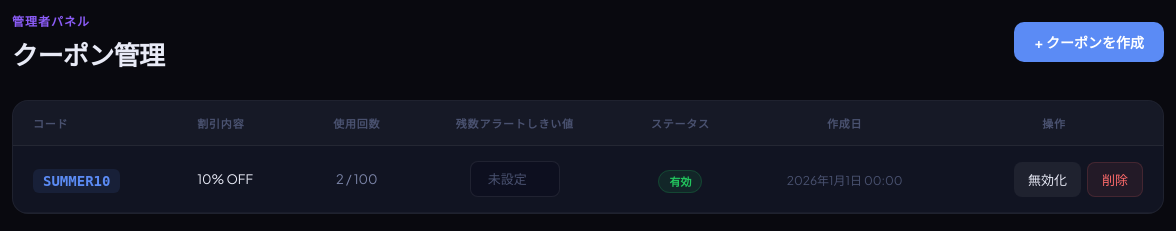
Test case: AdminCouponsView › toggles a coupon via toggleAdminCoupon
The image size is (1176, 231).
Expected: the text "SUMMER10" is shown, [33, 168, 120, 192]
Click the button "無効化": (1048, 179) [1014, 162, 1081, 196]
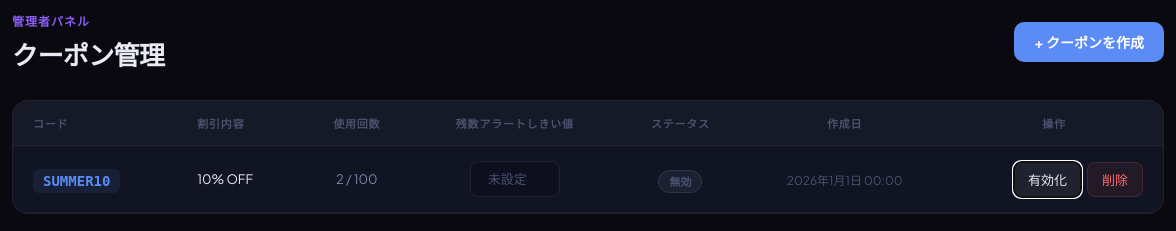
Now the button "有効化" is shown, box [1014, 162, 1081, 196]
